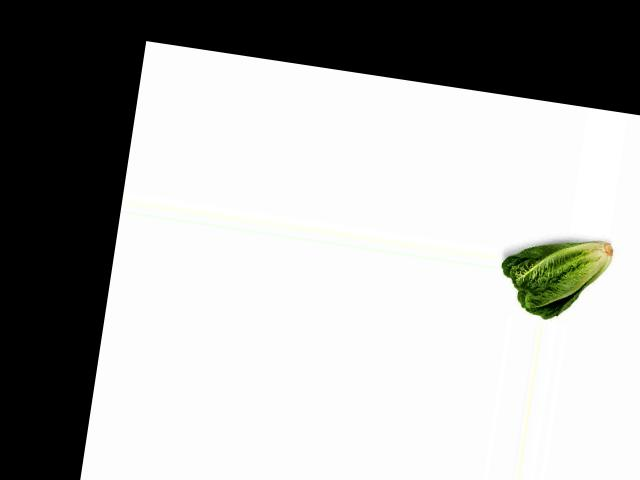lettuce: (495, 225, 616, 327)
